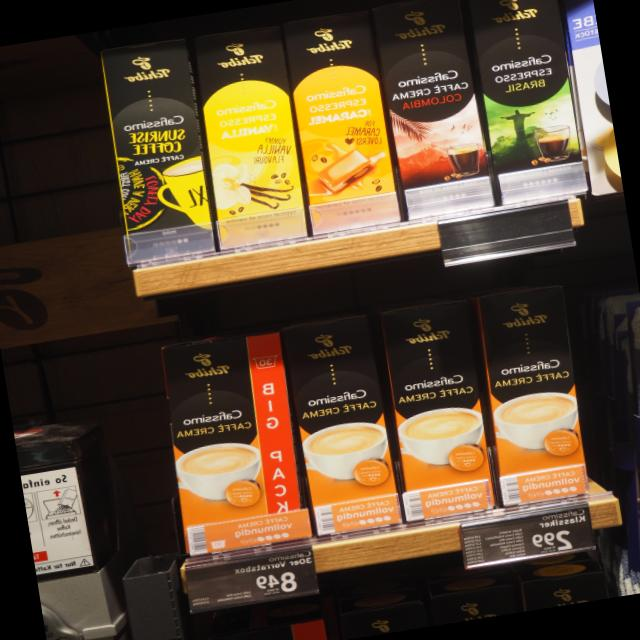Simo CC Colombia: (371, 0, 498, 224)
Simo CCVollmundig: (161, 327, 310, 557)
Simo CCVollmundig bigpack: (281, 312, 405, 538), (377, 297, 500, 524), (474, 283, 591, 510)
Simo Es Brazil: (458, 0, 591, 207)
Simo Es Caramel: (279, 7, 403, 237)
Simo Es Vanilla: (192, 22, 312, 251)
Simo Sunrise: (96, 35, 217, 268)
